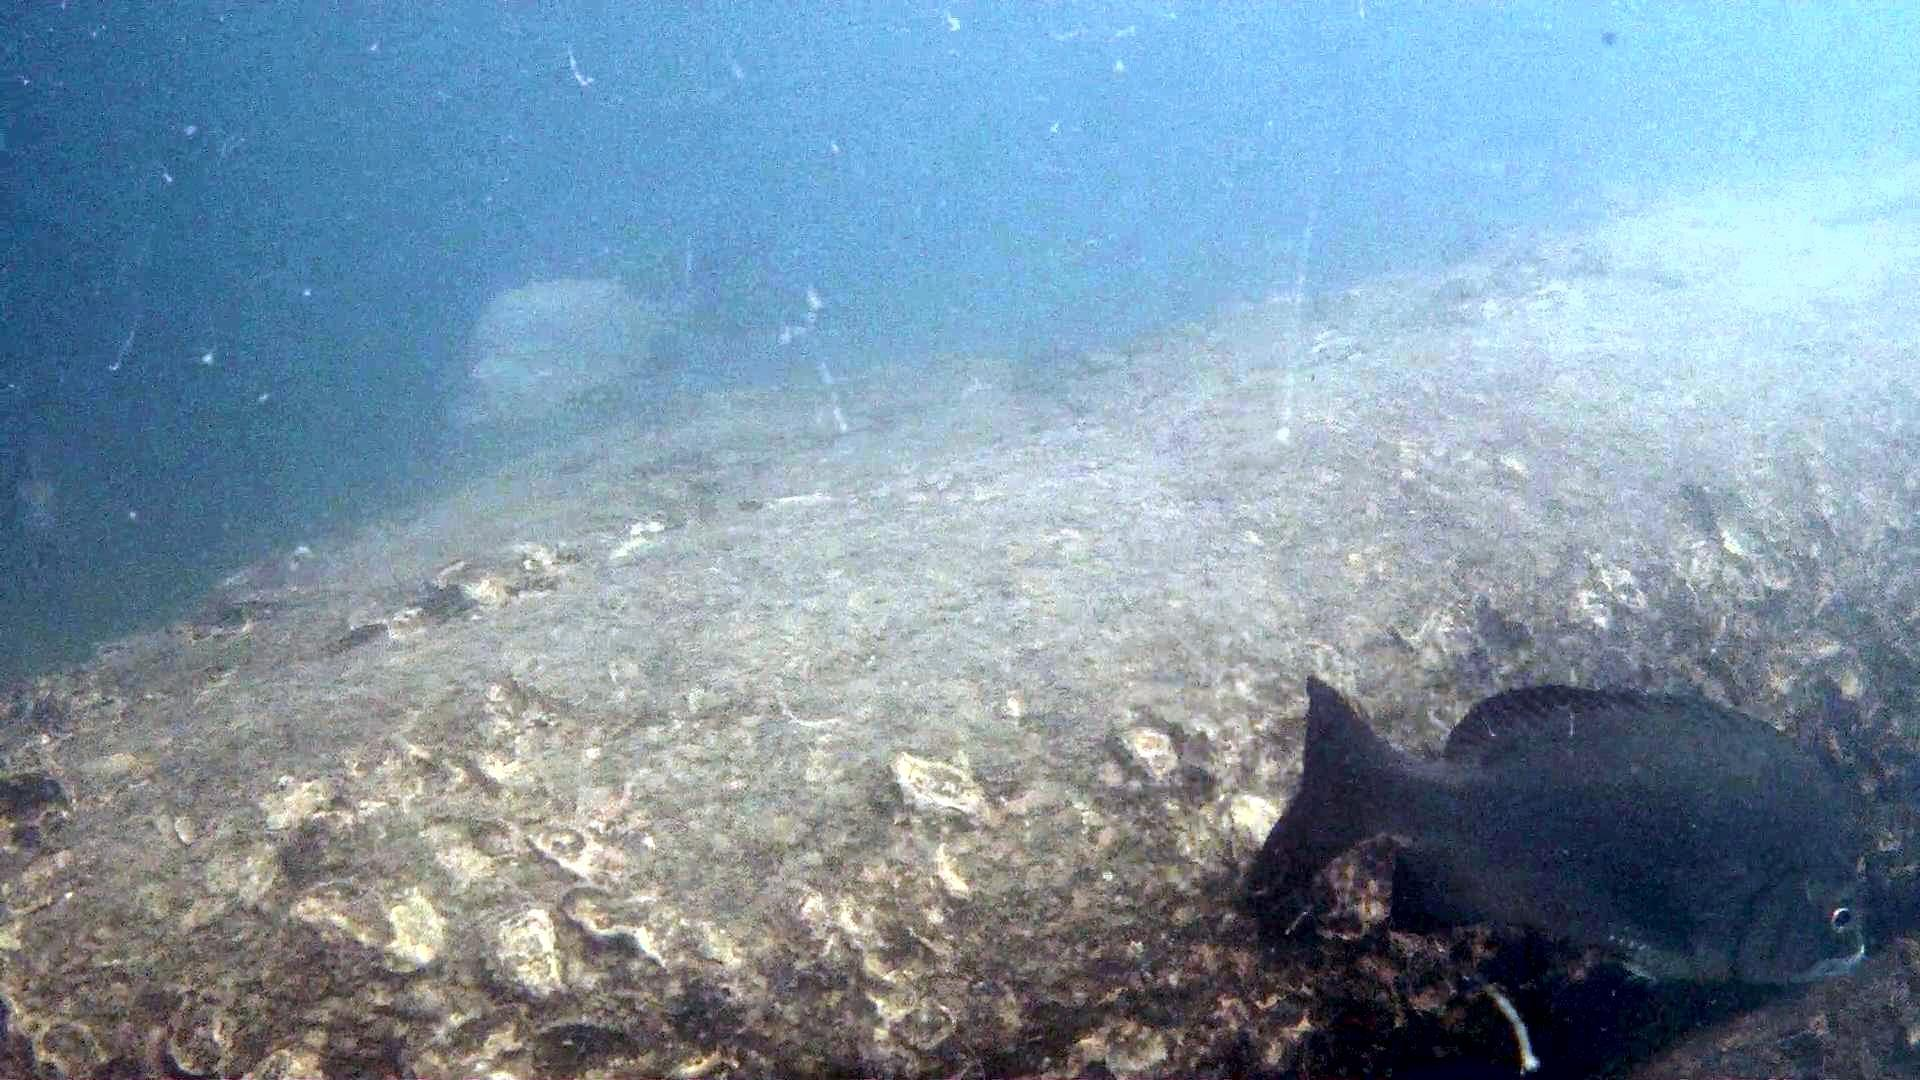acanthopagrus palmaris: (1218, 670, 1884, 1036)
